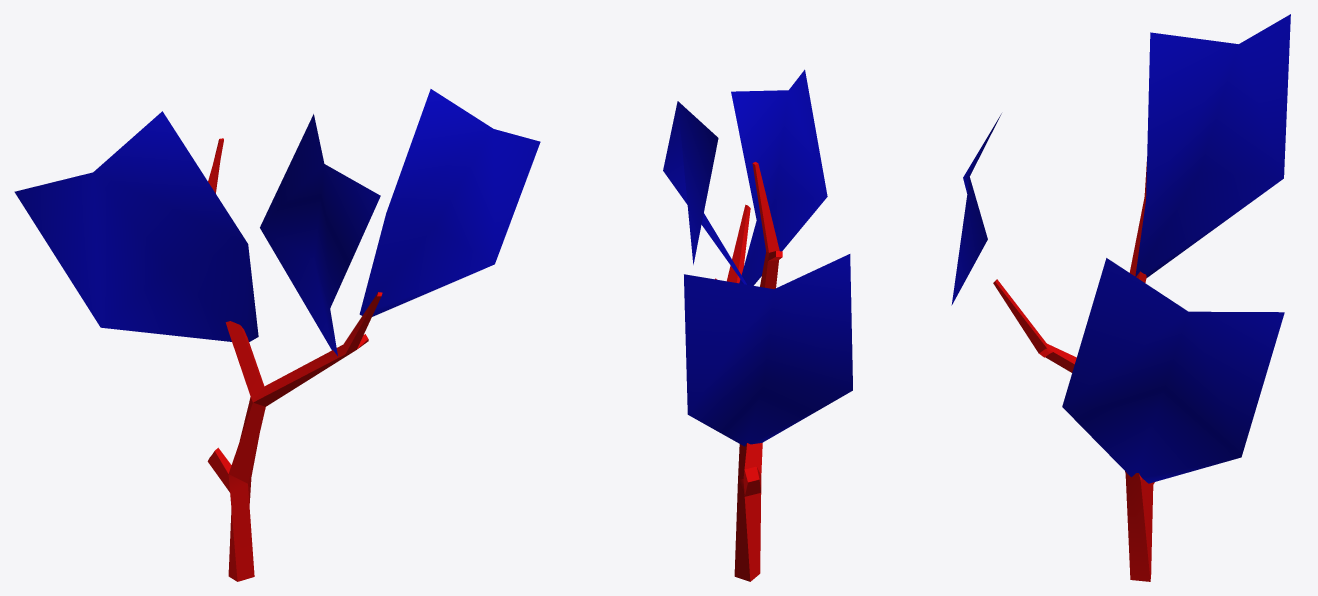
File: SM_Tree_Dead_03.glb
3 renders of one model, left to right at view 1: azimuth 30°, elevation 25°; view 2: azimuth 150°, elevation 25°; view 3: azimuth 270°, elevation 25°, orthographic. The views are drawn at different scales.
Visible parts, largest first — view 1: SM_Tree_Dead_03; view 2: SM_Tree_Dead_03; view 3: SM_Tree_Dead_03.
Part boxes in pixels (x1,y1,x2,y2): SM_Tree_Dead_03: [14, 89, 540, 581]; SM_Tree_Dead_03: [663, 69, 852, 581]; SM_Tree_Dead_03: [951, 14, 1290, 581].
Size of the model in its own units: 0.9904 by 1.23 by 0.7231.
